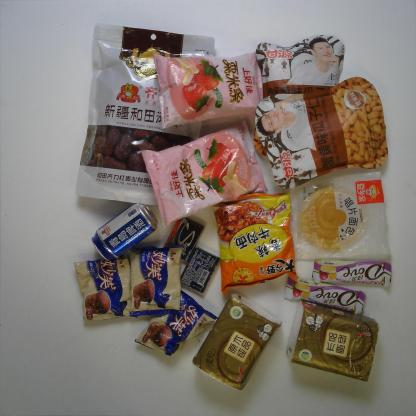Alcohol: (90, 202, 159, 261)
Chocolate: (283, 271, 366, 317), (310, 256, 393, 289)
Dessert: (288, 170, 392, 260), (134, 286, 218, 360), (73, 254, 138, 323), (128, 245, 184, 316)
Dried Food: (74, 22, 216, 212)
Dried Fruit: (255, 77, 388, 188), (253, 34, 350, 157)
Gum: (161, 215, 204, 261), (177, 246, 219, 292)
Instant Noodles: (212, 192, 298, 294)
Puffed Food: (140, 119, 268, 228), (152, 52, 265, 130)
Tissue: (192, 291, 282, 389), (286, 299, 378, 382)
